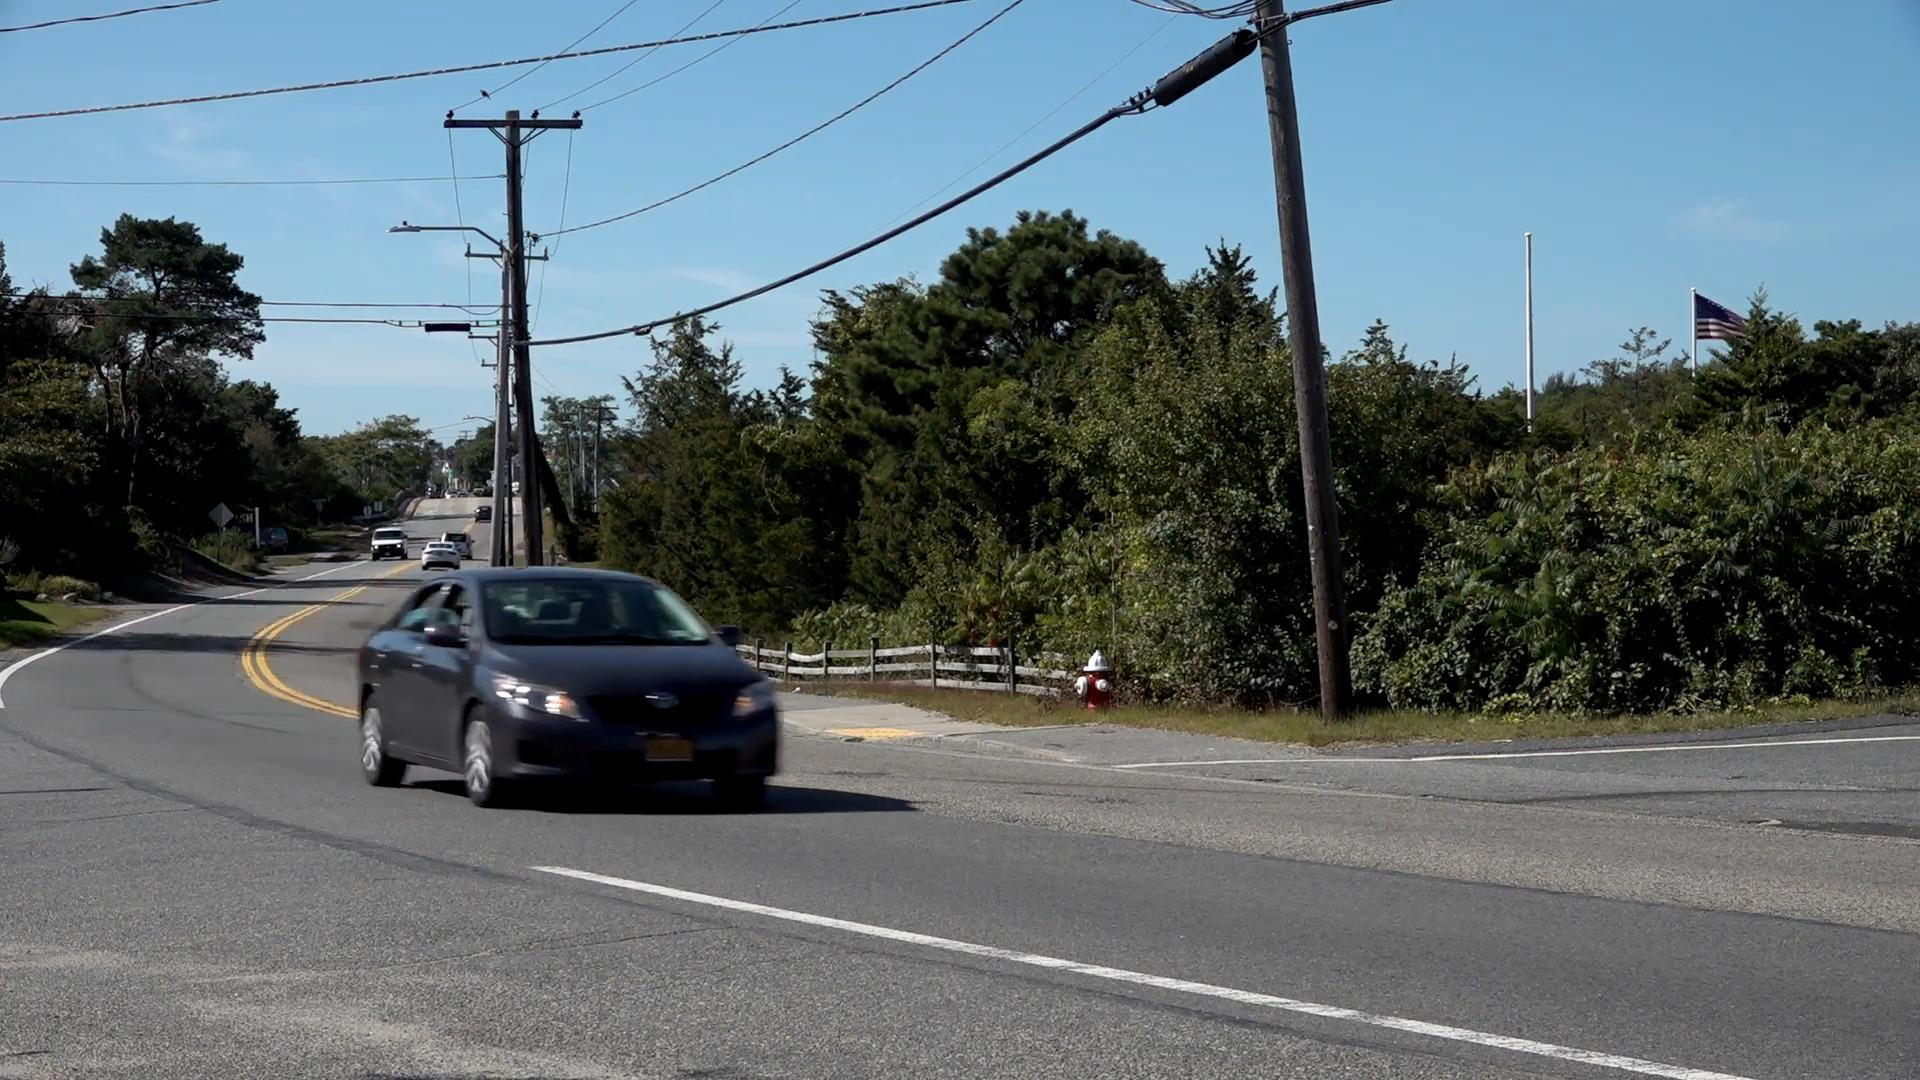sedans: (359, 562, 783, 814)
